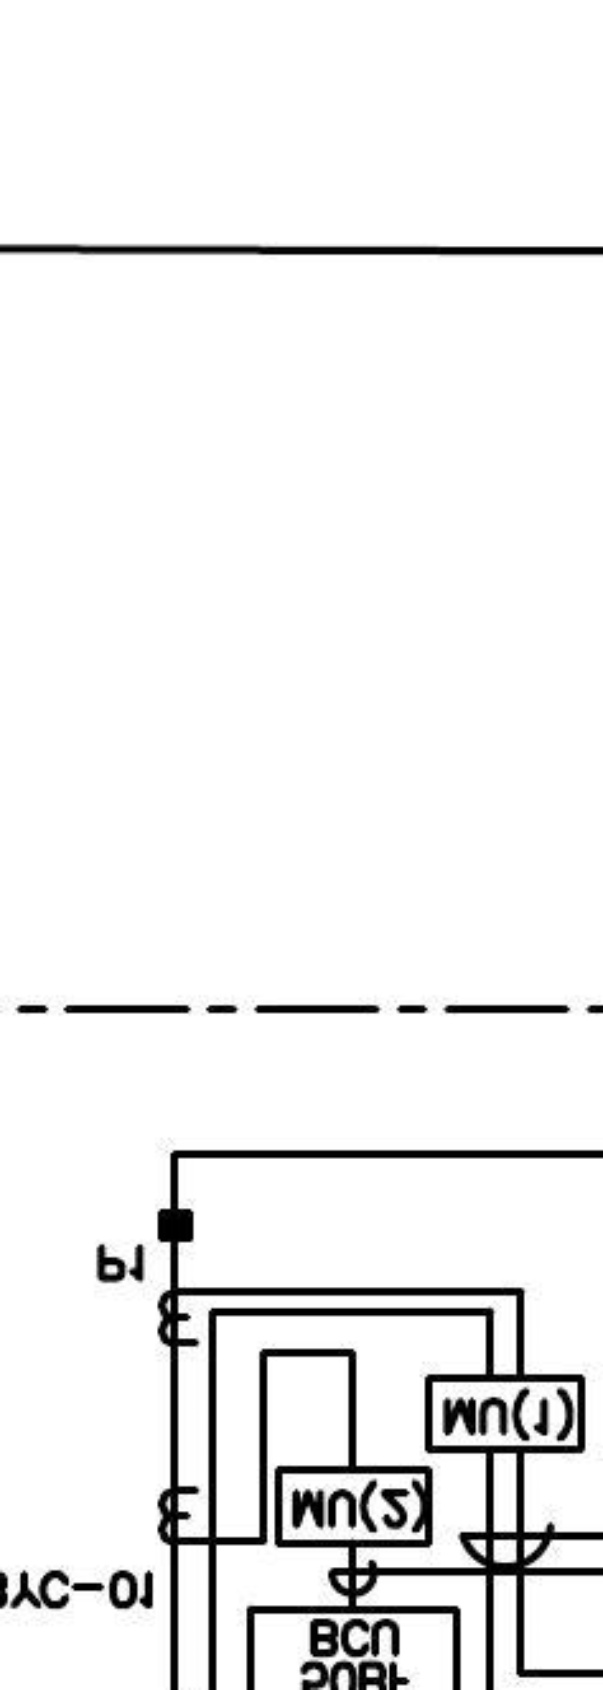MU: (273, 1465, 434, 1549), (424, 1372, 585, 1454)
